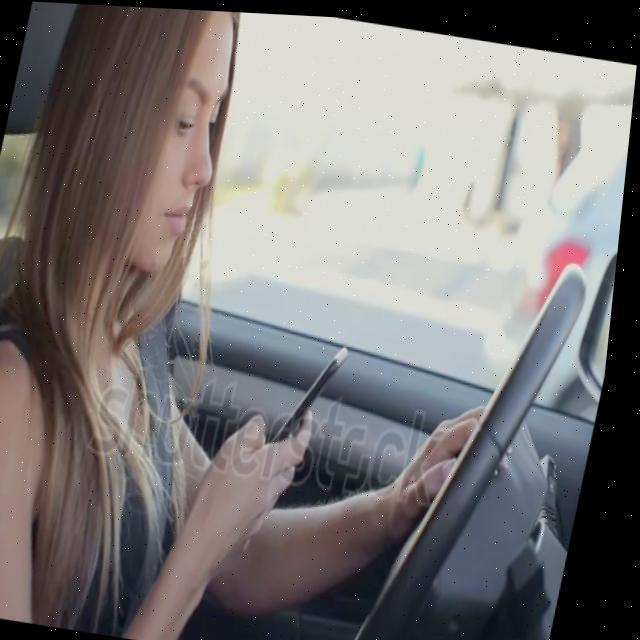PhoneCall: (271, 331, 357, 464)
